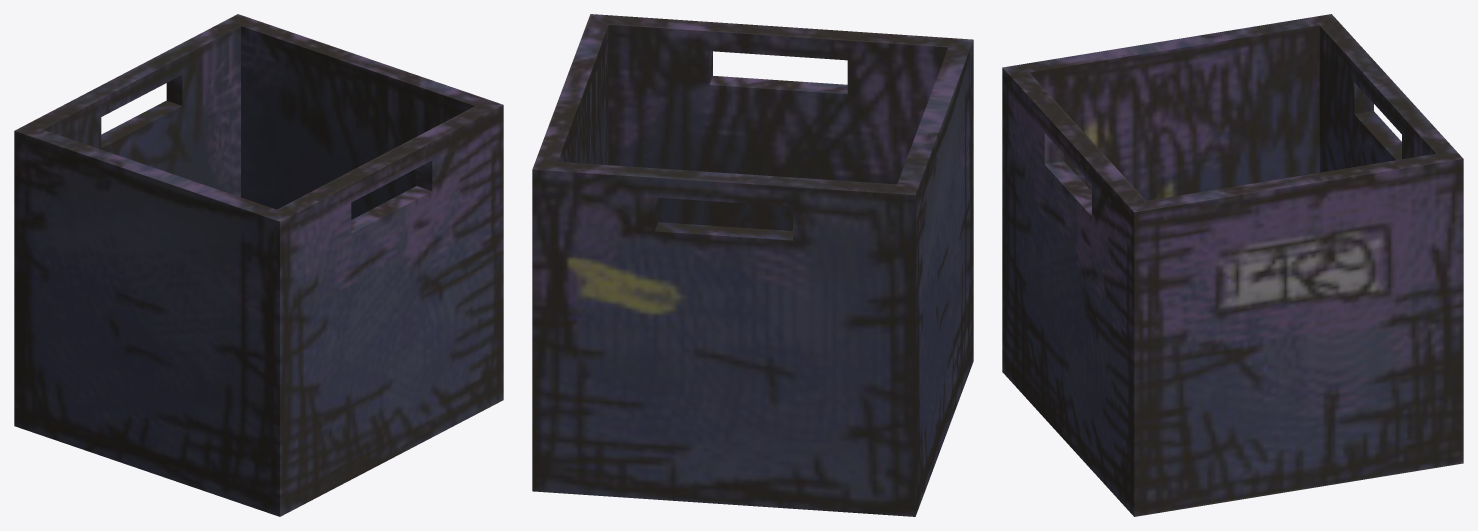
Rendered from boxarch1.fbx.
3 views of the same model, side by side, from view 1: azimuth 30°, elevation 25°; view 2: azimuth 150°, elevation 25°; view 3: azimuth 270°, elevation 25° (orthographic). The views are drawn at different scales.
Parts seen in each view (by area): view 1: Boxes.006; view 2: Boxes.006; view 3: Boxes.006.
Part boxes in pixels (x1,y1,x2,y2): Boxes.006: (14,14,503,516); Boxes.006: (532,14,973,516); Boxes.006: (1002,14,1463,516).
Size of the model in its own units: 59.63 by 42.71 by 58.58.
